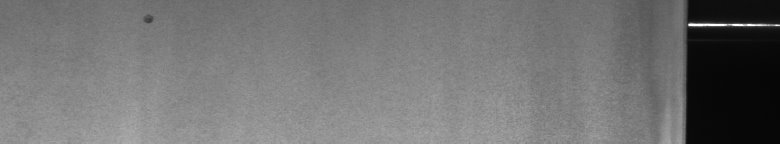fi: (143, 9, 155, 32)
